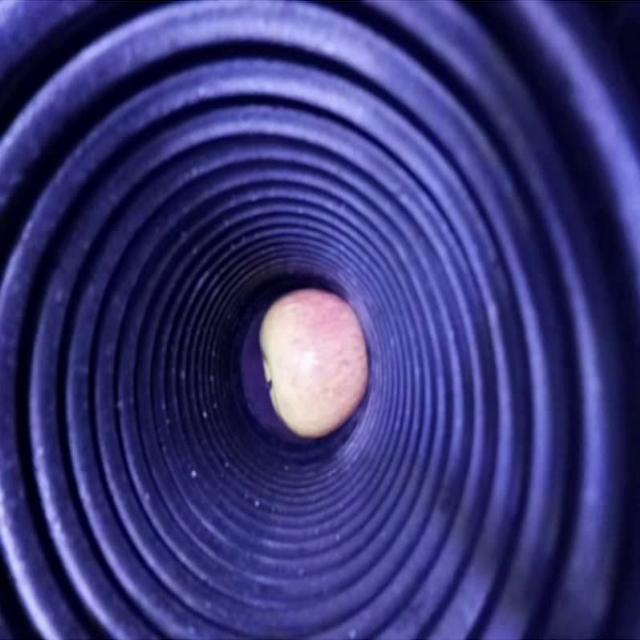obstacles: (259, 288, 371, 435)
